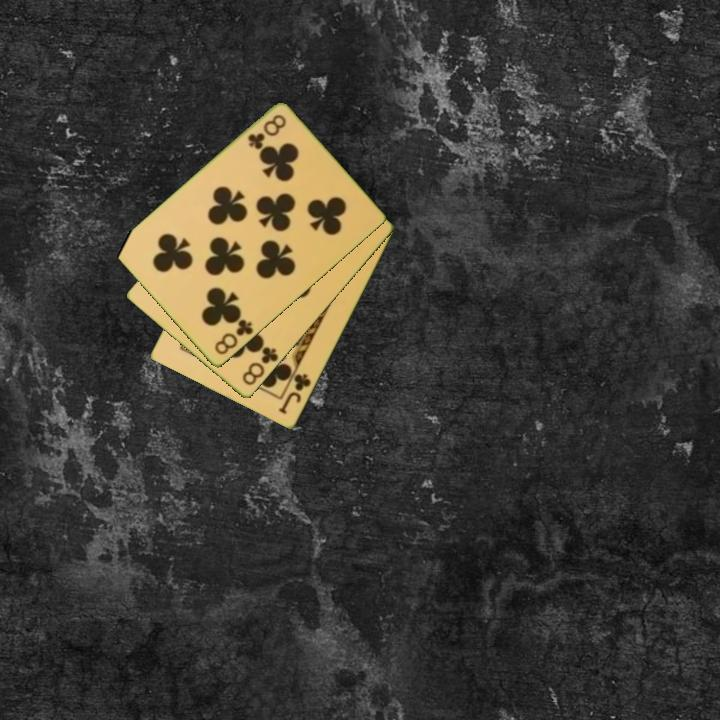8c: (239, 342, 281, 389), (211, 316, 256, 358), (244, 111, 289, 153)
Jc: (275, 370, 314, 417)
